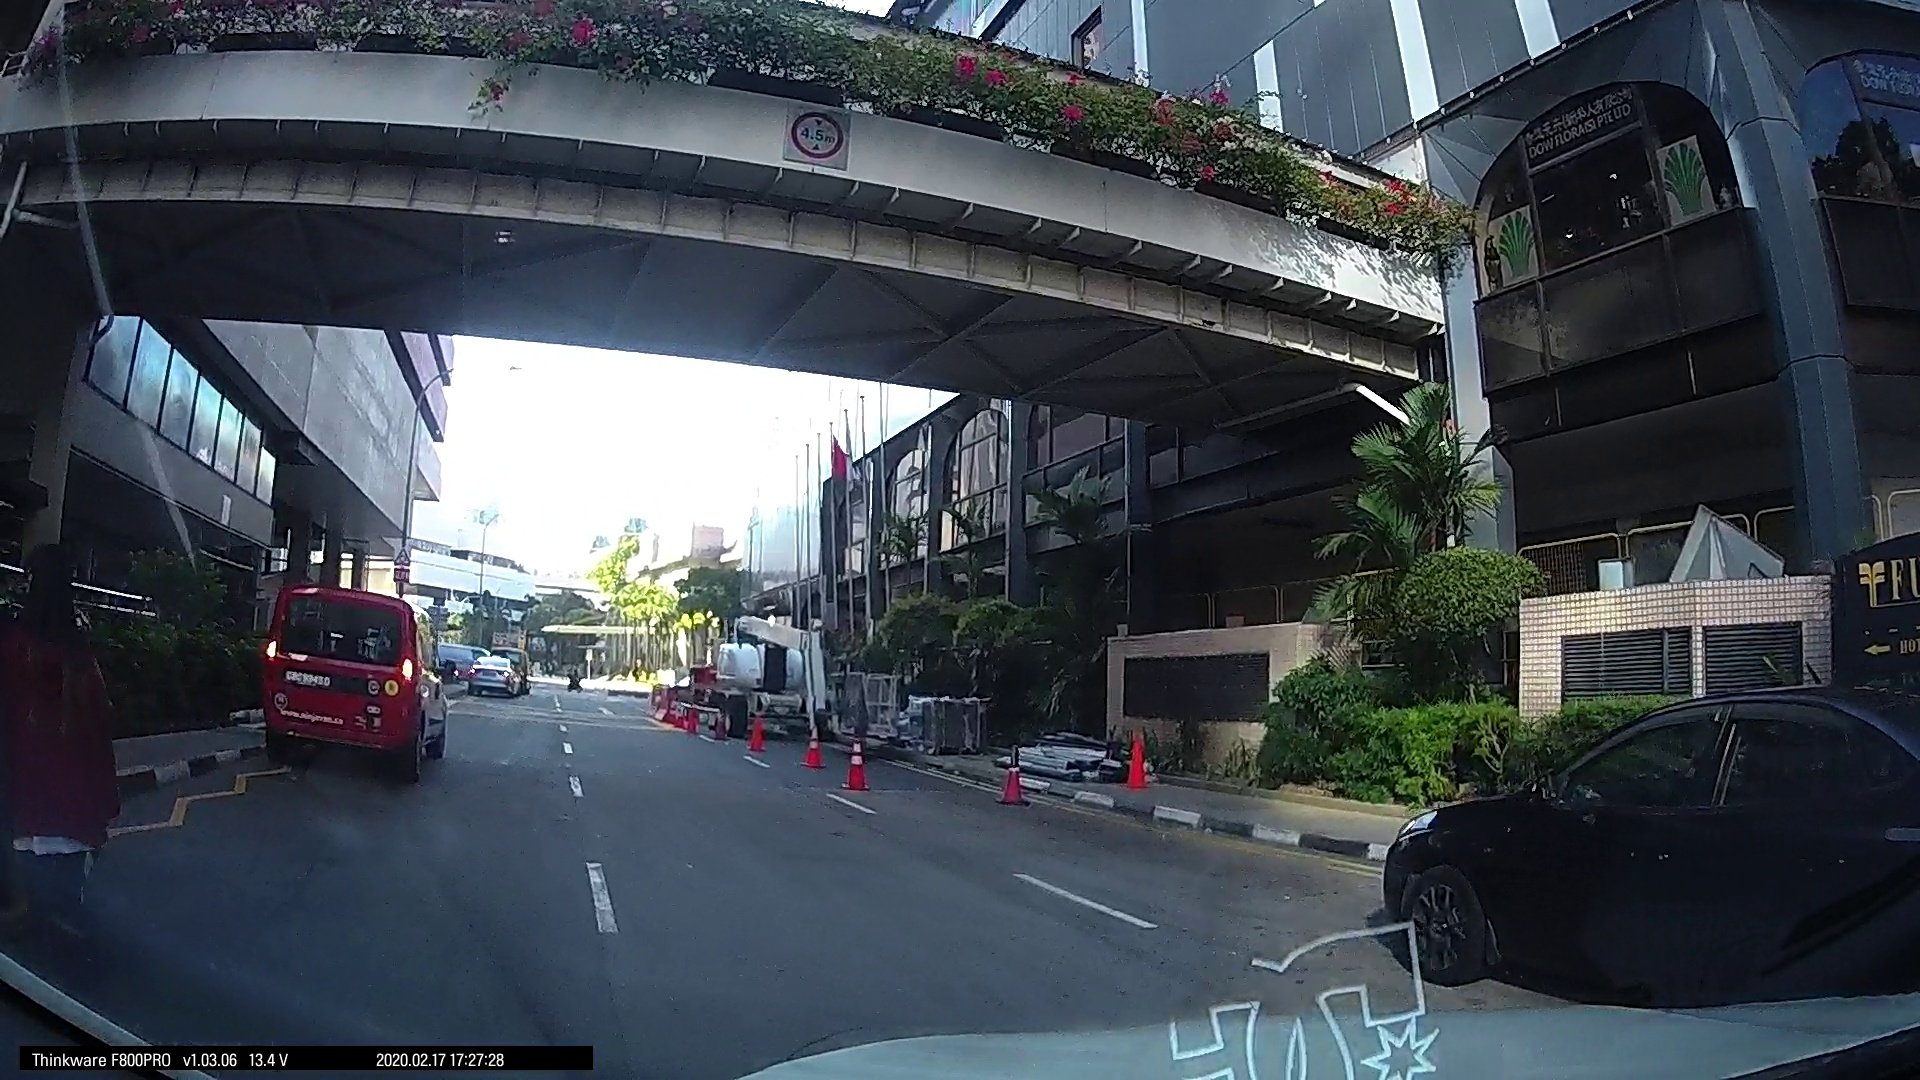Light Vehicle: (102, 535, 709, 971), (678, 647, 790, 804), (1338, 669, 1493, 781), (742, 638, 835, 762), (1708, 717, 1825, 810), (828, 618, 918, 703), (1091, 647, 1150, 700), (977, 654, 1029, 698)
